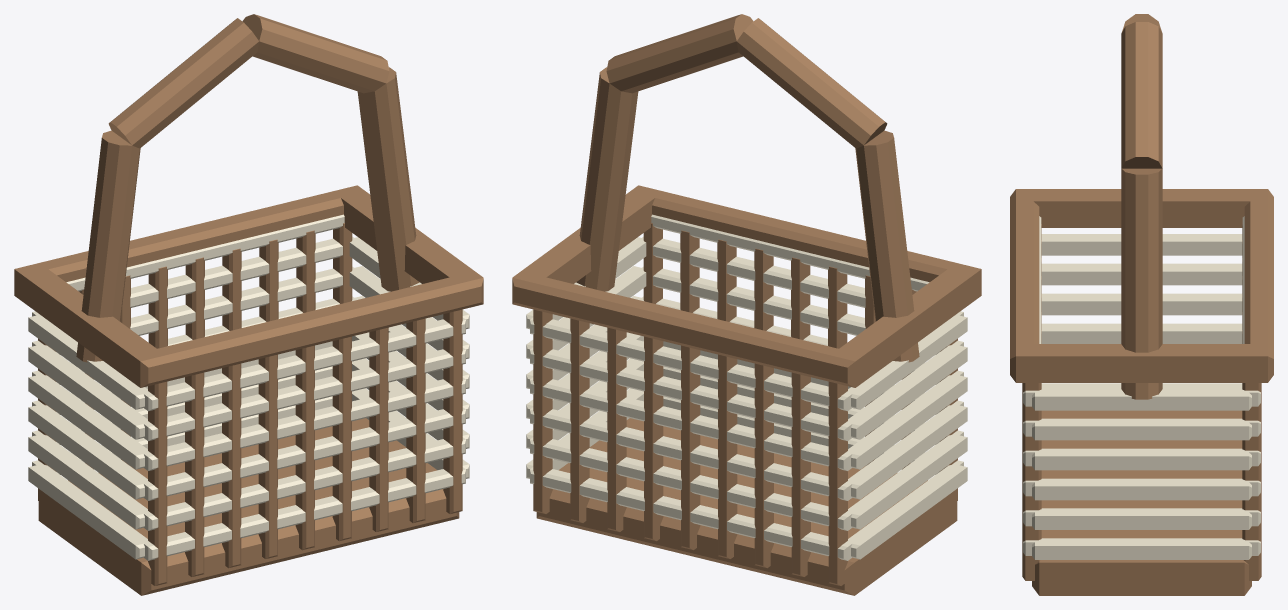
File: harbor-and-tackle-wicker-creel-0c49d848__19571.glb
The picture shows the model from 3 angles, left to right: view 1: azimuth 30°, elevation 25°; view 2: azimuth 150°, elevation 25°; view 3: azimuth 270°, elevation 25°; orthographic projection.
Parts seen in each view (by area): view 1: cedar, ivory; view 2: cedar, ivory; view 3: cedar, ivory.
Part boxes in pixels (<box>): cedar: <box>14,14,483,595</box>; ivory: <box>28,214,469,560</box>; cedar: <box>512,14,981,595</box>; ivory: <box>526,214,967,560</box>; cedar: <box>1010,14,1273,595</box>; ivory: <box>1023,216,1260,559</box>.
Bounding box in the file's own units: 0.54 × 0.7533 × 0.36.
